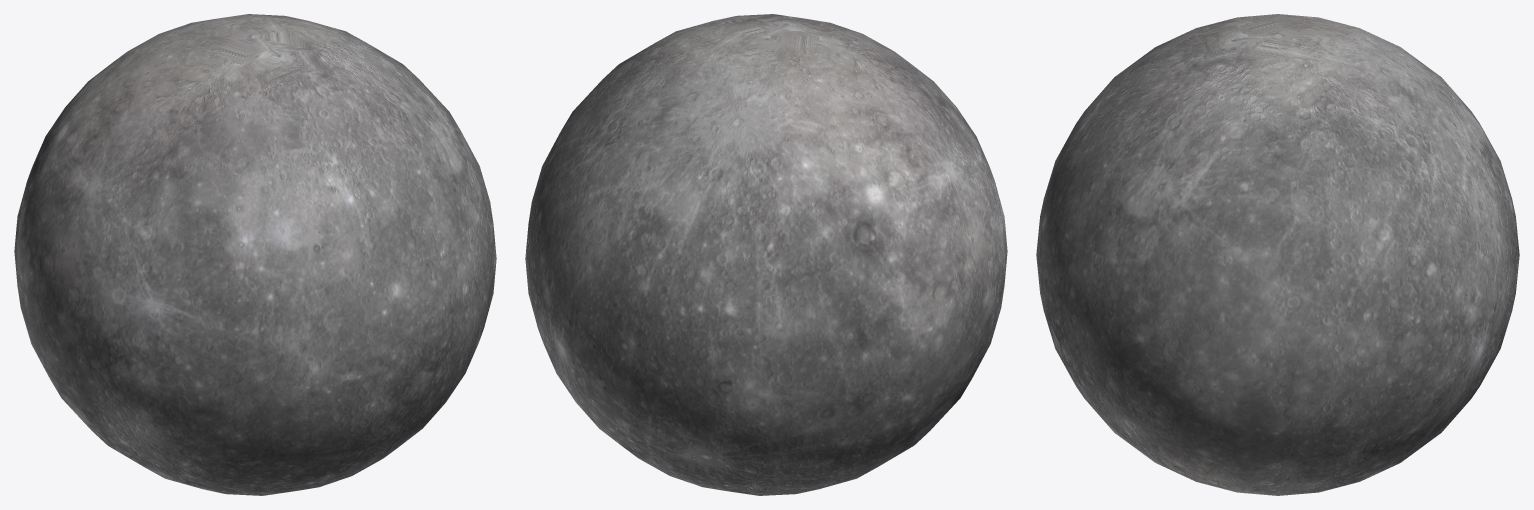
Rendered from mercury.fbx.
3 renders of one model, left to right at view 1: azimuth 30°, elevation 25°; view 2: azimuth 150°, elevation 25°; view 3: azimuth 270°, elevation 25°, orthographic.
Visible parts, largest first — view 1: mercury; view 2: mercury; view 3: mercury.
Boxes of the visible parts, x1,y1,x2,y2 form: mercury: (14, 14, 496, 495); mercury: (525, 14, 1007, 495); mercury: (1036, 14, 1519, 495).
Size of the model in its own units: 2 by 2 by 2.
1 material, 1 textured.
